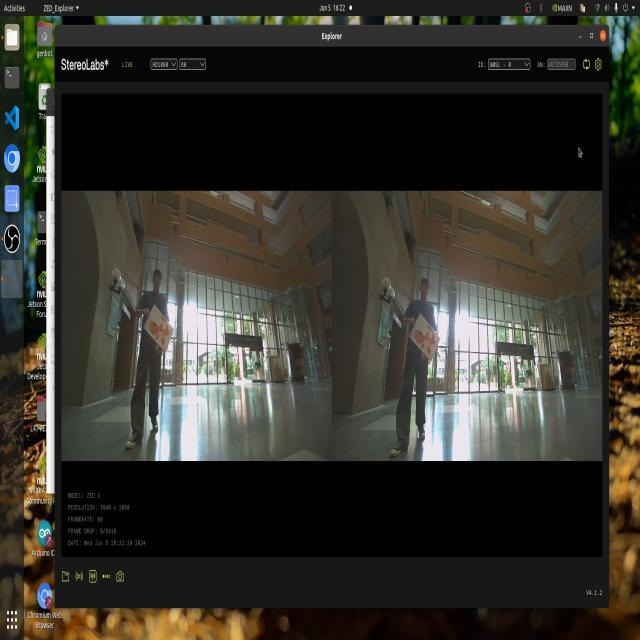red: (415, 316, 440, 354), (147, 308, 175, 337)
